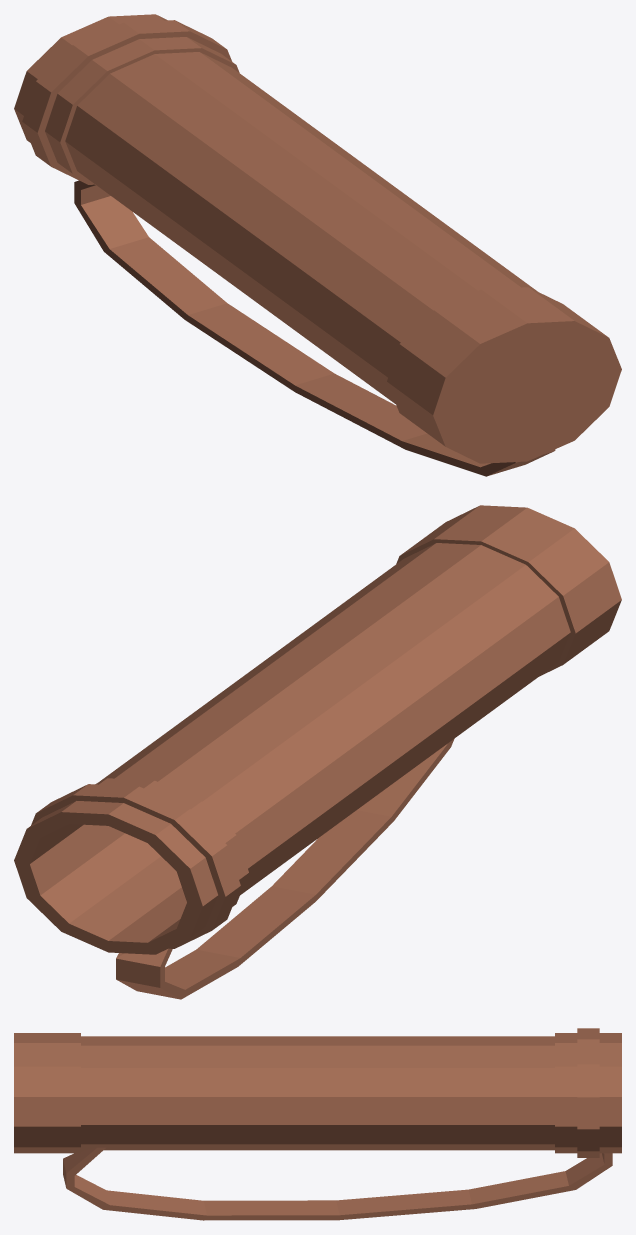
Rendered from QuiverNew.glb.
3 views of the same model, one above another, from view 1: azimuth 30°, elevation 25°; view 2: azimuth 150°, elevation 25°; view 3: azimuth 270°, elevation 25° (orthographic). The views are drawn at different scales.
Parts seen in each view (by area): view 1: Quiver; view 2: Quiver; view 3: Quiver.
Boxes of the visible parts, <box> form: Quiver: <box>14,14,621,476</box>; Quiver: <box>14,505,621,999</box>; Quiver: <box>14,1028,621,1220</box>.
Size of the model in its own units: 0.3182 by 0.35 by 1.14.
Materials: 1 (1 with a texture image).
